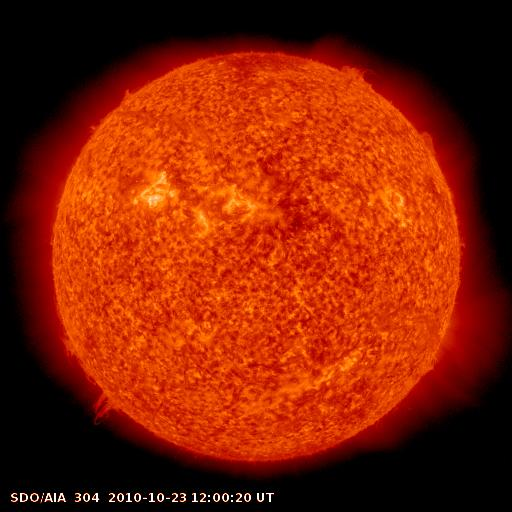prominence: (53, 327, 128, 430), (86, 81, 147, 140), (335, 54, 387, 101), (409, 116, 448, 165)
